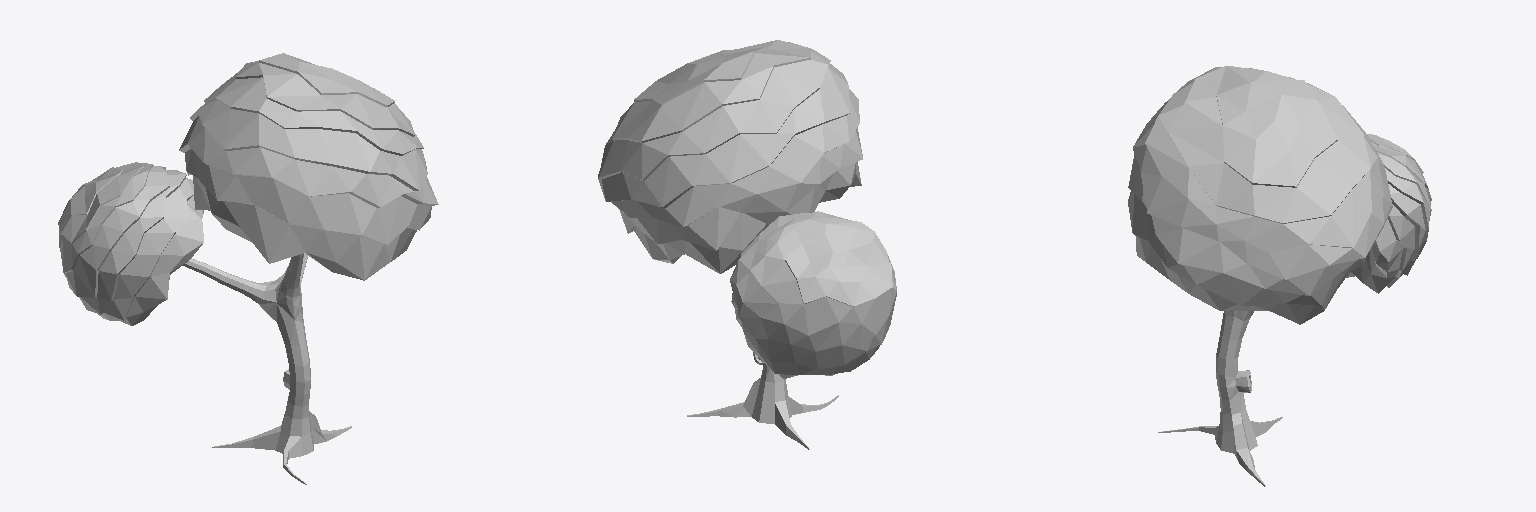
File: LP med Bush tree TREE ST1.obj
3 renders of one model, left to right at view 1: azimuth 30°, elevation 25°; view 2: azimuth 150°, elevation 25°; view 3: azimuth 270°, elevation 25°, orthographic.
Parts seen in each view (by area): view 1: TreeTrunkM_Cube.001; view 2: TreeTrunkM_Cube.001; view 3: TreeTrunkM_Cube.001.
Boxes of the visible parts, x1=… form: TreeTrunkM_Cube.001: x1=58, y1=53, x2=438, y2=484; TreeTrunkM_Cube.001: x1=598, y1=40, x2=896, y2=449; TreeTrunkM_Cube.001: x1=1128, y1=66, x2=1431, y2=486.
Bounding box in the file's own units: 8 × 9.27 × 6.82.